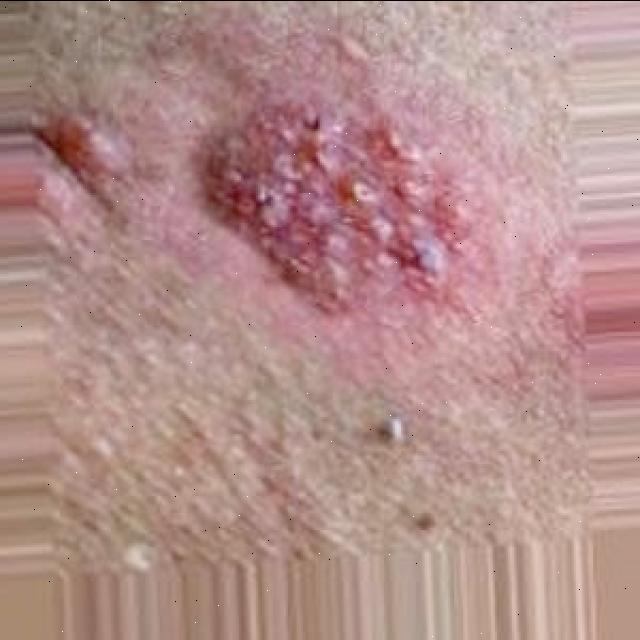Shingles: (212, 94, 459, 313)
